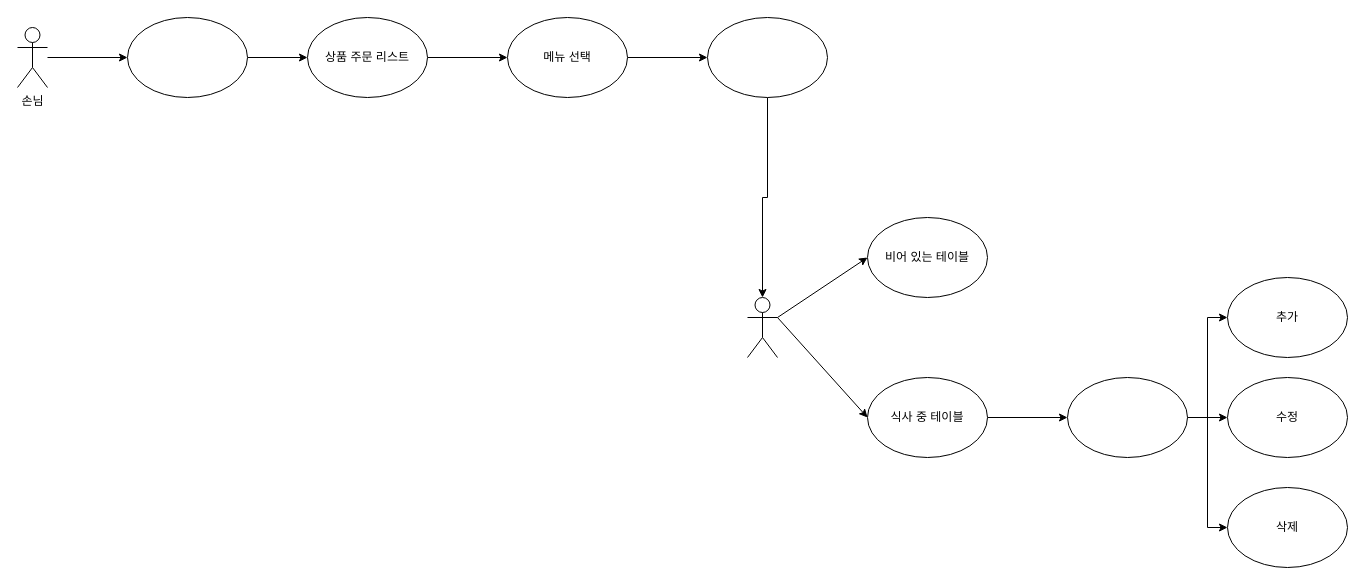
Image size: 1365x585. Some labels were removed from this diagram. The centre of each missing label's shape, as x and y in pixels:
"결제" belongs at pixel 767 57.
"사용자" belongs at pixel 762 327.
"상품 리스트 표시" belongs at pixel 1127 417.
"테이블 선택" belongs at pixel 187 57.
